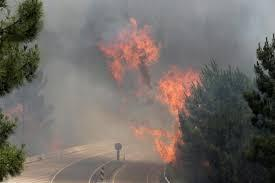fire: (136, 67, 204, 161), (94, 15, 158, 88)
yanwu: (27, 5, 136, 160), (155, 1, 256, 73)
